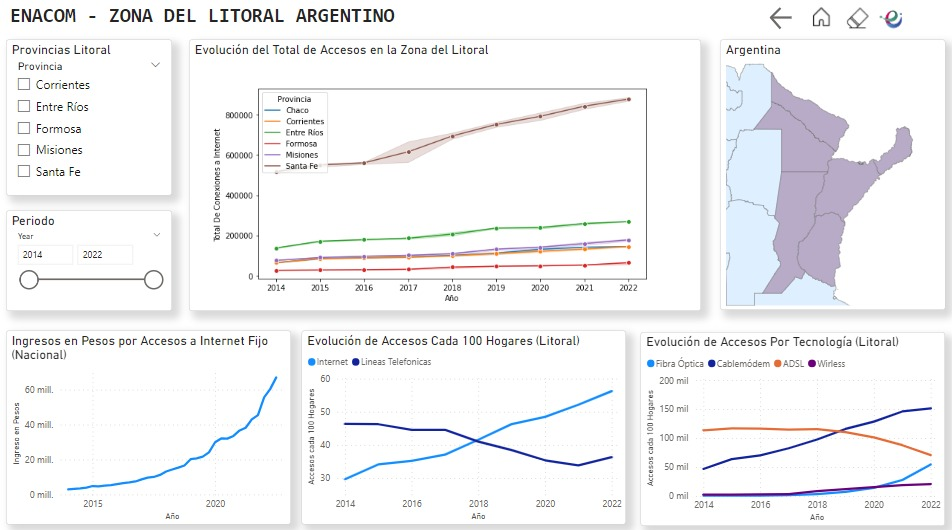

The dashboard page shown, as its layout file describes it:
{"tool":"powerbi","page":{"name":"ZonaLitoral","canvas":[1280,720],"ordinal":4},"visuals":[{"type":"pythonVisual","title":"Evolución del Total de Accesos en la Zona del Litoral","fields":{"Values":["enacom provincias.nombre","enacom provincias.id_provincia","enacom acceso_tecnologia_provincia.total","enacom acceso_tecnologia_provincia.id_provincia","enacom acceso_tecnologia_provincia.año"]},"box":[255.3,53.4,682.9,362.2],"z":0},{"type":"slicer","title":"Provincias Litoral","fields":{"Values":["enacom provincias.nombre"]},"box":[11.3,54.8,221.1,207.9],"z":1000},{"type":"slicer","title":"Periodo","fields":{"Values":["Calendario.Year"]},"box":[11.3,281.6,221.1,134.2],"z":2000},{"type":"lineChart","title":"Ingresos en Pesos por Accesos a Internet Fijo (Nacional)","fields":{"Y":["Avg(enacom ingresos_internet_fijo.ingreso_pesos)"],"Category":["Calendario.Date.Variación.Jerarquía de fechas.Año","Calendario.Date.Variación.Jerarquía de fechas.Trimestre"]},"box":[11.3,442.2,379.8,258.9],"z":3000},{"type":"shapeMap","title":"Argentina","fields":{"Category":["enacom provincias.nombre"]},"box":[963.8,54.8,300.5,360.9],"z":4000},{"type":"lineChart","title":"Evolución de Accesos Cada 100 Hogares (Litoral)","fields":{"Category":["Calendario.Date.Variación.Jerarquía de fechas.Año","Calendario.Date.Variación.Jerarquía de fechas.Trimestre"],"Y":["Avg(enacom accesos_cada_100_hogares_internet.accesos_cada_100_hogares)","Avg(enacom accesos_cada_100_telefonia_fija.accesos_cada_100_hogares)"]},"box":[406.3,442.2,432.8,258.9],"z":5000},{"type":"textbox","box":[12.1,0,714.7,54.5],"z":6000},{"type":"lineChart","title":"Evolución de Accesos Por Tecnología (Litoral)","fields":{"Category":["Calendario.Date.Variación.Jerarquía de fechas.Año","Calendario.Date.Variación.Jerarquía de fechas.Trimestre"],"Y":["Avg(enacom acceso_tecnologia_provincia.fibra_optica)","Avg(enacom acceso_tecnologia_provincia.cablemodem)","Avg(enacom acceso_tecnologia_provincia.adsl)","Avg(enacom acceso_tecnologia_provincia.wirless)"]},"box":[858,444.1,406.3,258.9],"z":7000},{"type":"actionButton","box":[1026.3,6.8,45.8,39.5],"z":8000},{"type":"actionButton","box":[1080,6.8,47.4,39.5],"z":9000},{"type":"actionButton","box":[1127.4,6.8,44.2,39.5],"z":10000},{"type":"actionButton","box":[1170.9,0,48.1,53.9],"z":11000}]}

Visuals, with their boxes in screenshot pixels (x1, y1, x2, y2), scaled from the page's 1280x720 canvas onto the 952x530 screenshot:
"Evolución del Total de Accesos en la Zona del Litoral" pythonVisual: detection(190, 39, 698, 306)
"Provincias Litoral" slicer: detection(8, 40, 173, 193)
"Periodo" slicer: detection(8, 207, 173, 306)
"Ingresos en Pesos por Accesos a Internet Fijo (Nacional)" lineChart: detection(8, 326, 291, 516)
"Argentina" shapeMap: detection(717, 40, 940, 306)
"Evolución de Accesos Cada 100 Hogares (Litoral)" lineChart: detection(302, 326, 624, 516)
textbox: detection(9, 0, 541, 40)
"Evolución de Accesos Por Tecnología (Litoral)" lineChart: detection(638, 327, 940, 517)
actionButton: detection(763, 5, 797, 34)
actionButton: detection(803, 5, 839, 34)
actionButton: detection(839, 5, 871, 34)
actionButton: detection(871, 0, 907, 40)
